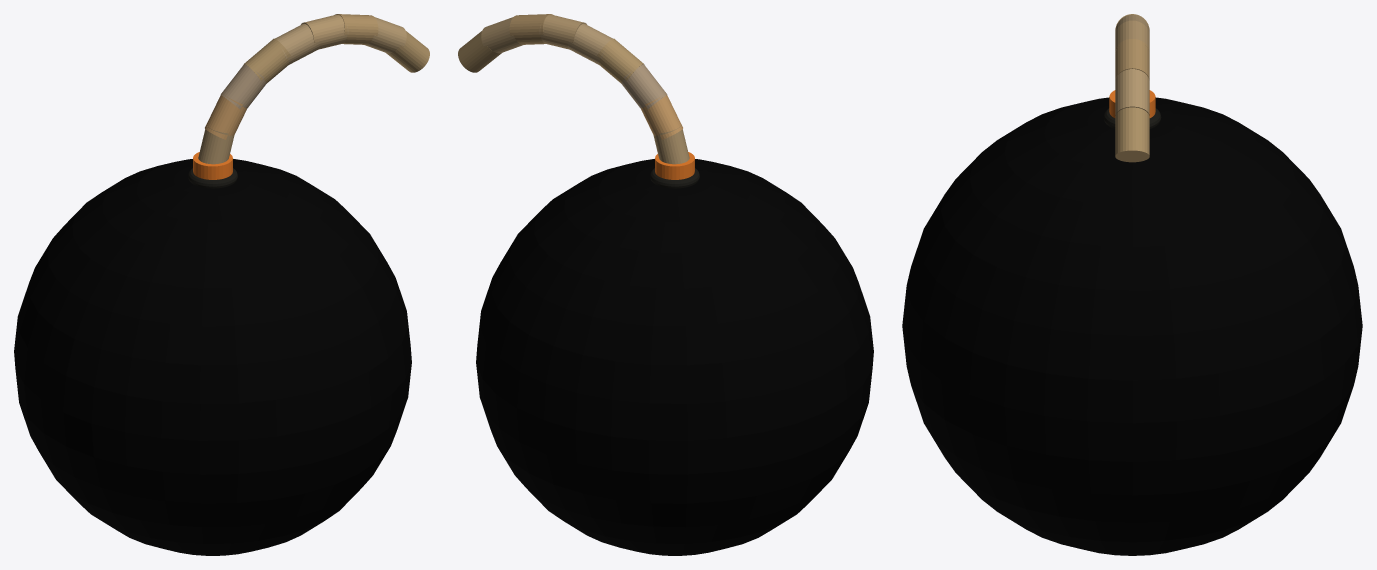
File: bomb.fbx
3 views of the same model, side by side, from view 1: azimuth 30°, elevation 25°; view 2: azimuth 150°, elevation 25°; view 3: azimuth 270°, elevation 25° (orthographic). The views are drawn at different scales.
Visible parts, largest first — view 1: Sphere, Cylinder.005, Cylinder.004, Cylinder.003, Cylinder.007, Cylinder.006, Cylinder.008, Cylinder.010, Cylinder.002, Cylinder.009, Cylinder.001, Torus; view 2: Sphere, Cylinder.005, Cylinder.004, Cylinder.003, Cylinder.007, Cylinder.006, Cylinder.008, Cylinder.010, Cylinder.002, Cylinder.009, Cylinder.001, Torus; view 3: Sphere, Cylinder.010, Cylinder.009, Cylinder.008, Cylinder.007.
Boxes of the visible parts, x1,y1,x2,y2 form: Sphere: (14,159,411,555); Cylinder.005: (243,38,290,83); Cylinder.004: (220,64,266,108); Cylinder.003: (205,93,246,139); Cylinder.007: (301,14,348,49); Cylinder.006: (275,24,319,64); Cylinder.008: (335,14,378,44); Cylinder.010: (386,31,429,72); Cylinder.002: (198,124,234,164); Cylinder.009: (365,17,406,53); Cylinder.001: (193,152,232,179); Torus: (188,168,237,188); Sphere: (476,159,873,555); Cylinder.005: (597,38,644,83); Cylinder.004: (621,64,667,108); Cylinder.003: (641,93,682,139); Cylinder.007: (539,14,586,49); Cylinder.006: (568,24,612,64); Cylinder.008: (509,14,552,44); Cylinder.010: (458,31,501,72); Cylinder.002: (653,124,689,164); Cylinder.009: (481,17,522,53); Cylinder.001: (655,152,694,179); Torus: (650,168,699,188); Sphere: (902,97,1362,555); Cylinder.010: (1115,107,1149,162); Cylinder.009: (1115,69,1149,115); Cylinder.008: (1115,39,1149,80); Cylinder.007: (1115,20,1149,51).
Size of the model in its own units: 224 by 272 by 200.
